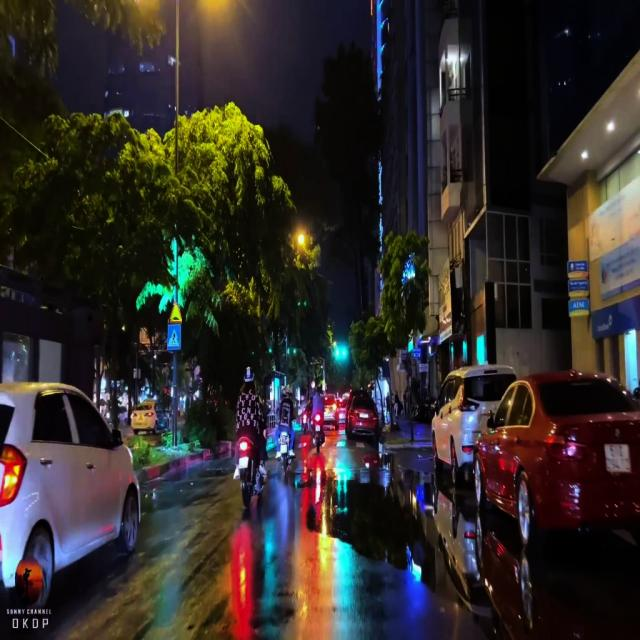duong_co_song_map_mo_nhan_tao: (167, 298, 182, 324)
duong_nguoi_di_bo_sang_ngang: (167, 324, 181, 350)
